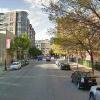Car: (68, 65, 99, 100)
